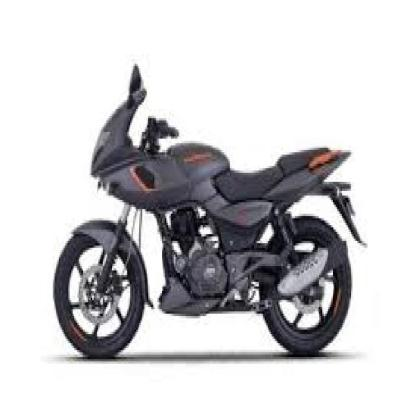bike: (53, 64, 365, 359)
